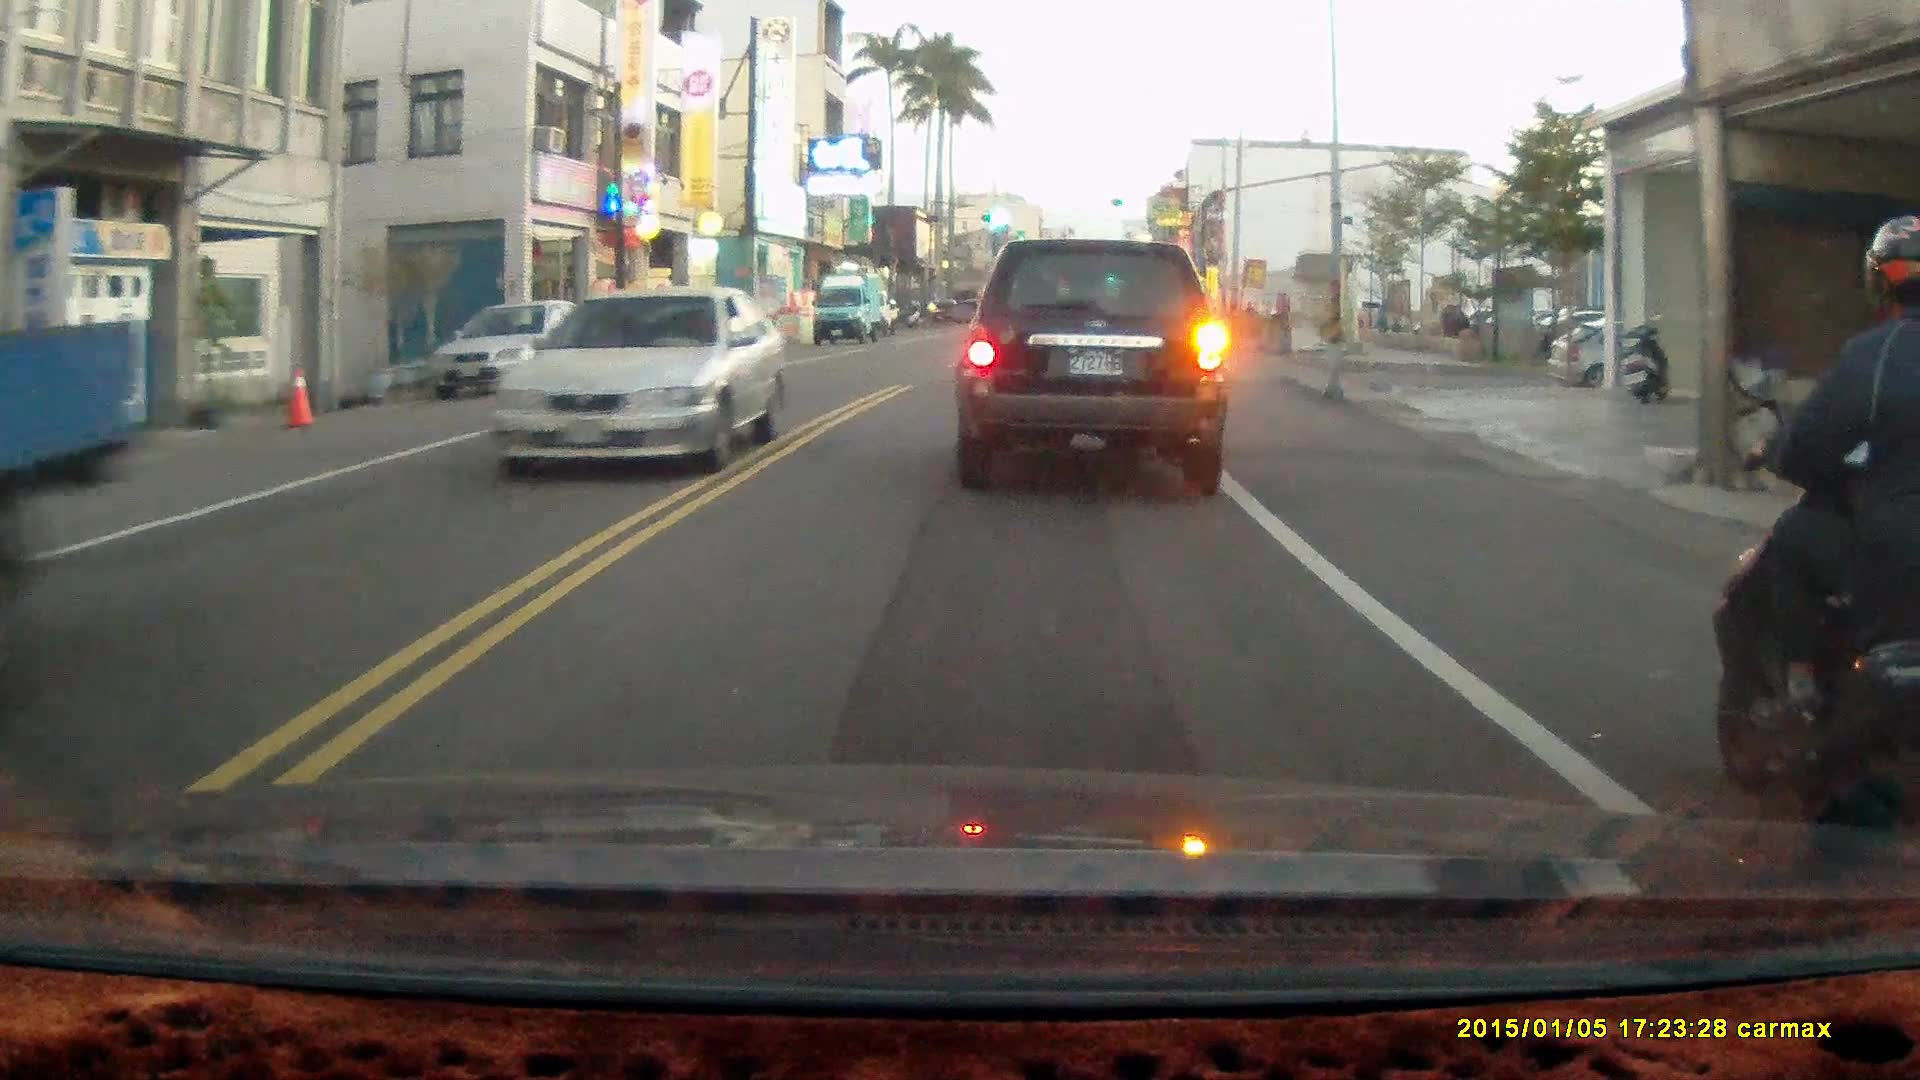rider: (1705, 212, 1919, 889)
vehicle: (954, 239, 1235, 500), (485, 285, 784, 484), (1, 317, 139, 603), (426, 300, 614, 397), (1543, 325, 1750, 400), (814, 272, 891, 346)
